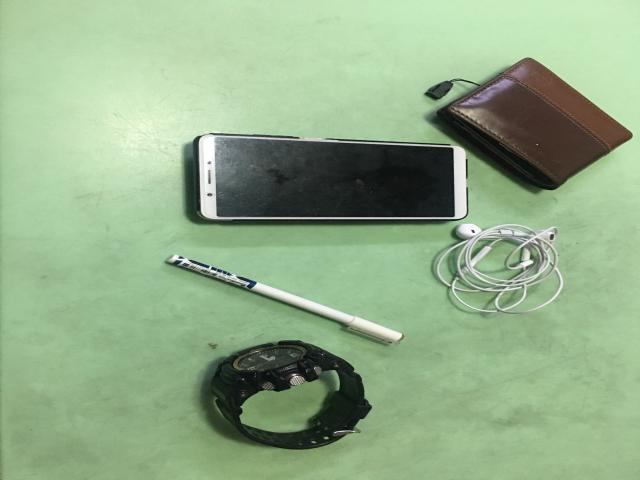Mobile phone: (184, 134, 469, 226)
Pen: (165, 256, 403, 347)
Wallet: (426, 58, 633, 193)
Watch: (203, 341, 372, 451)
wire: (431, 225, 565, 317)
